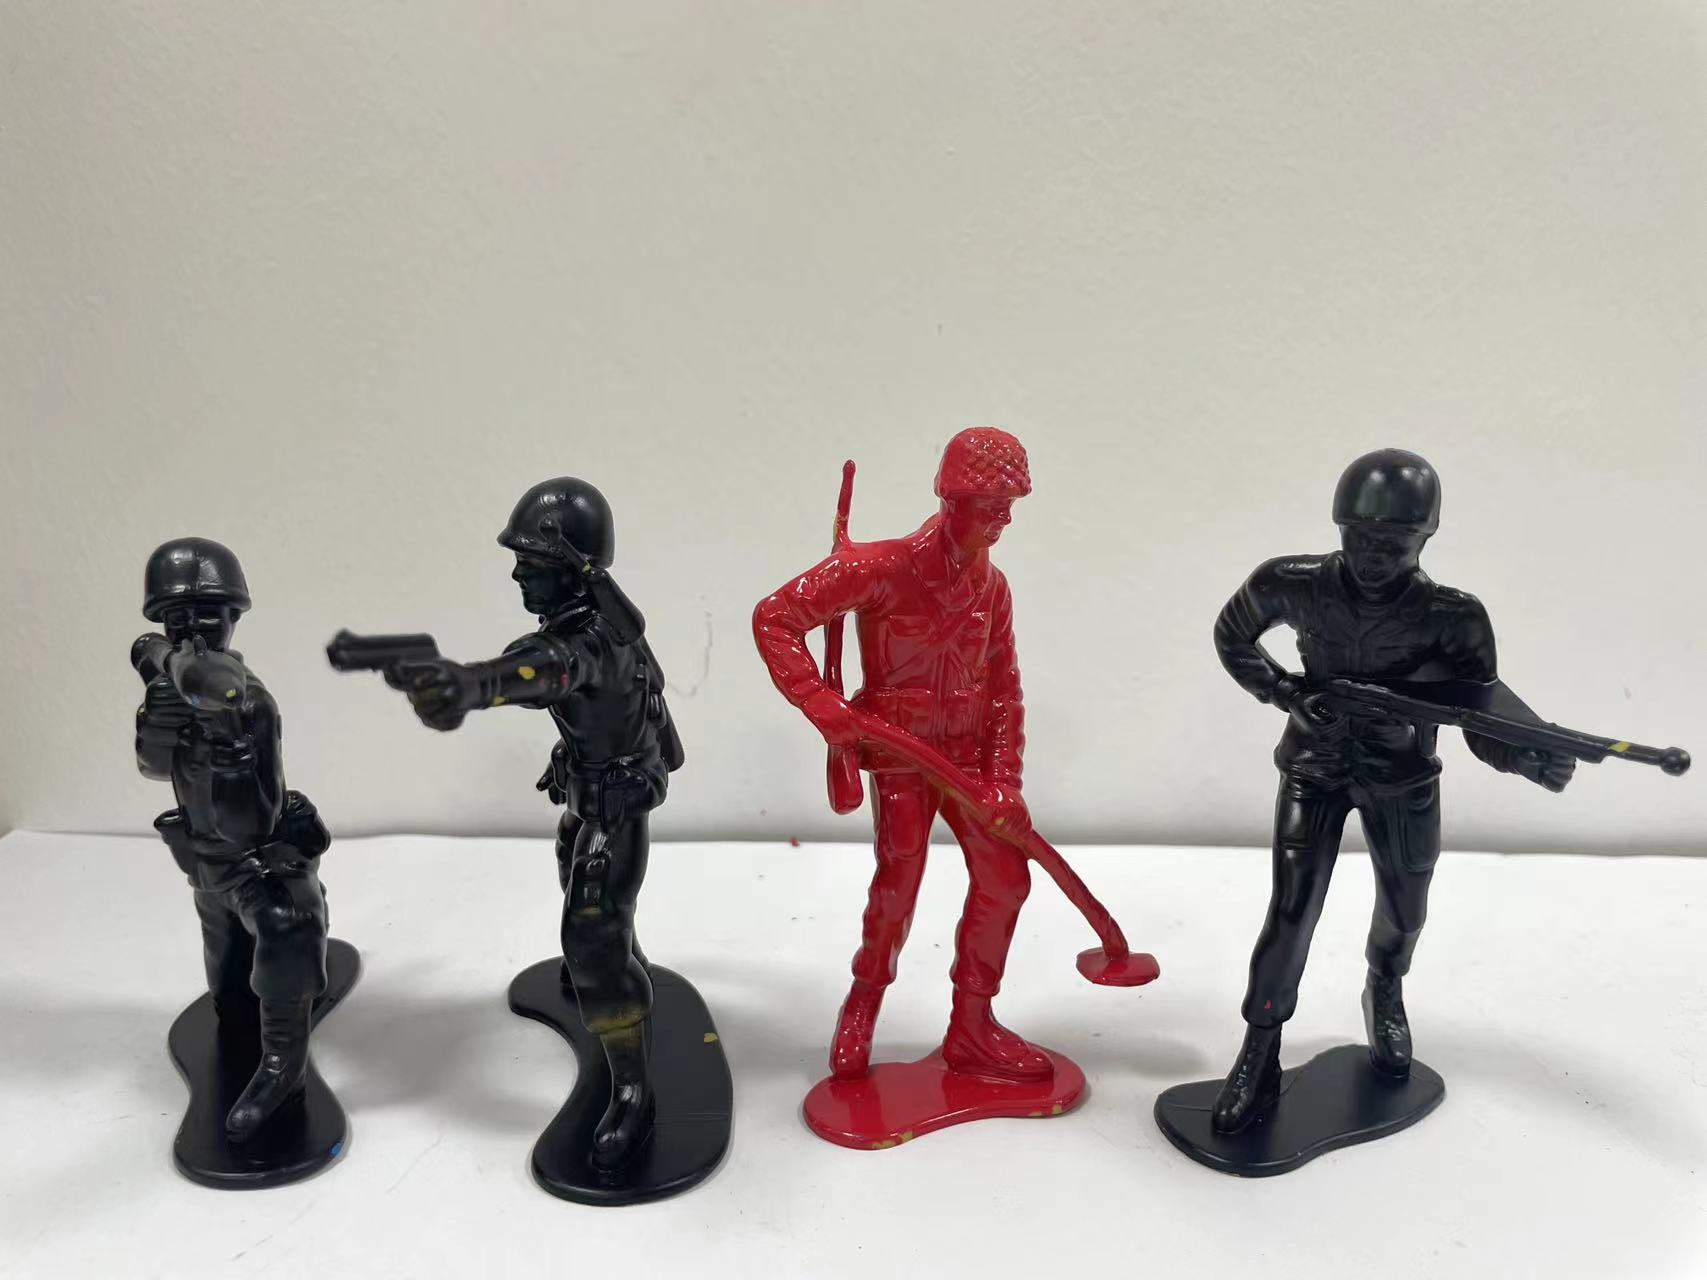black: (1181, 406, 1624, 1203), (352, 433, 763, 1233), (67, 507, 397, 1215)
red: (759, 397, 1130, 1194)
